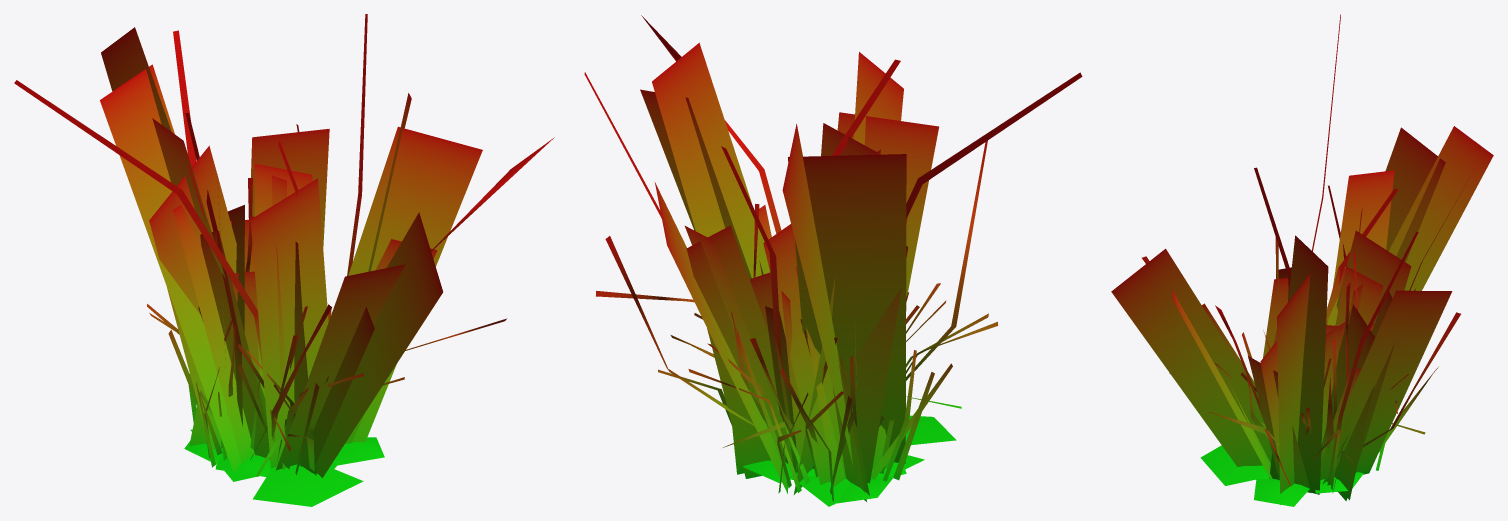
File: Var2_LOD3.fbx
The picture shows the model from 3 angles, left to right: view 1: azimuth 30°, elevation 25°; view 2: azimuth 150°, elevation 25°; view 3: azimuth 270°, elevation 25°; orthographic projection. The views are drawn at different scales.
Parts seen in each view (by area): view 1: _b36e_Var2_LOD3; view 2: _b36e_Var2_LOD3; view 3: _b36e_Var2_LOD3.
Part boxes in pixels (<box>): _b36e_Var2_LOD3: <box>14,14,554,506</box>; _b36e_Var2_LOD3: <box>584,15,1082,506</box>; _b36e_Var2_LOD3: <box>1111,14,1493,506</box>.
Bounding box in the file's own units: 53.84 × 47.48 × 44.94.
